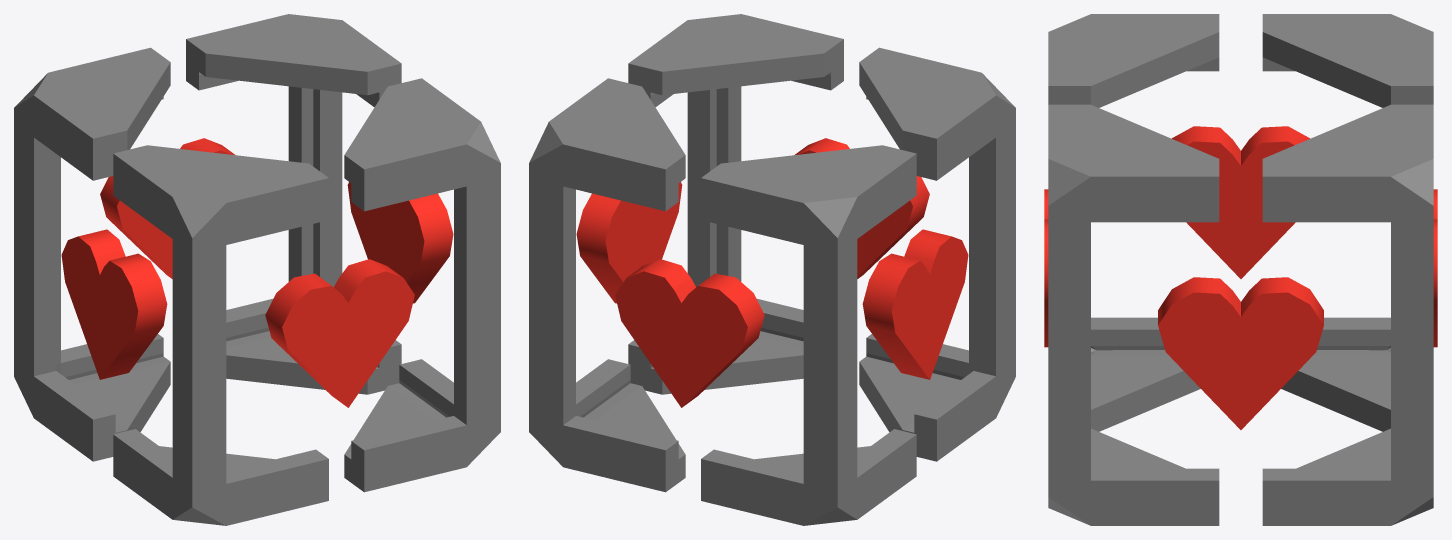
The model's file is quaternius-cyberpunk-pickup-heart.glb.
The picture shows the model from 3 angles, left to right: view 1: azimuth 30°, elevation 25°; view 2: azimuth 150°, elevation 25°; view 3: azimuth 270°, elevation 25°; orthographic projection. The views are drawn at different scales.
Parts seen in each view (by area): view 1: Pickup_Heart; view 2: Pickup_Heart; view 3: Pickup_Heart.
Boxes of the visible parts, bbox=[...] form: Pickup_Heart: bbox=[14, 14, 500, 525]; Pickup_Heart: bbox=[529, 14, 1015, 525]; Pickup_Heart: bbox=[1044, 14, 1437, 525].
Bounding box in the file's own units: 0.2464 × 0.2413 × 0.2464.
